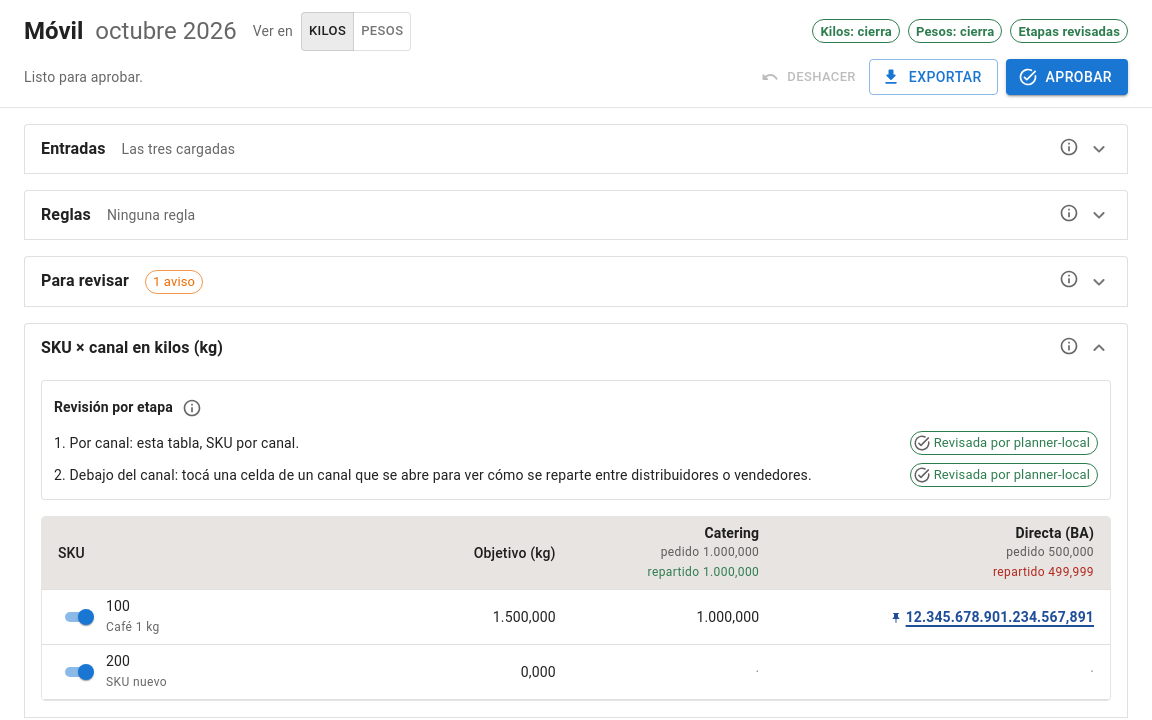
MovilPage › un problema de un SKU que no está en la matriz no ofrece ir a verlo
Click the button "Para revisar 1 aviso". click: (85, 281)
box: [41,270,1111,294]
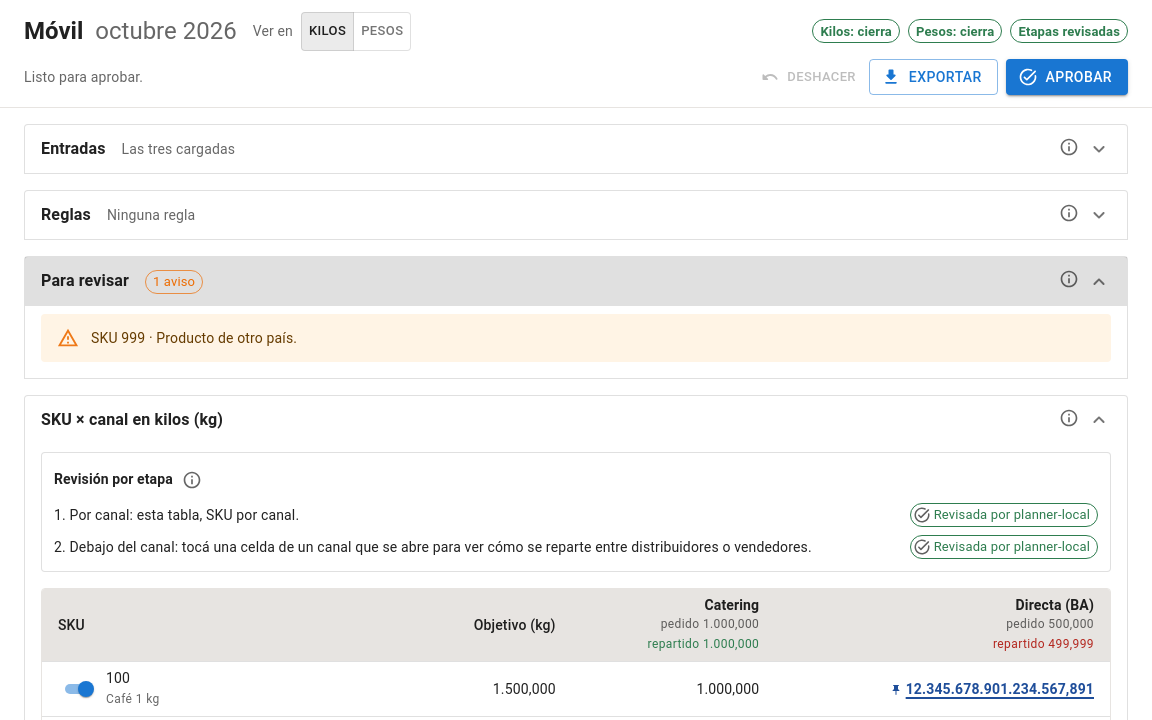
Expected: the text "SKU 999 · Producto de otro país." is shown, [91,330,297,346]
